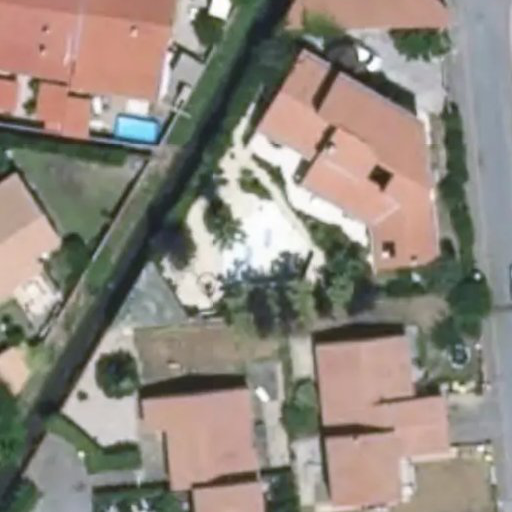pool: (112, 111, 163, 146)
